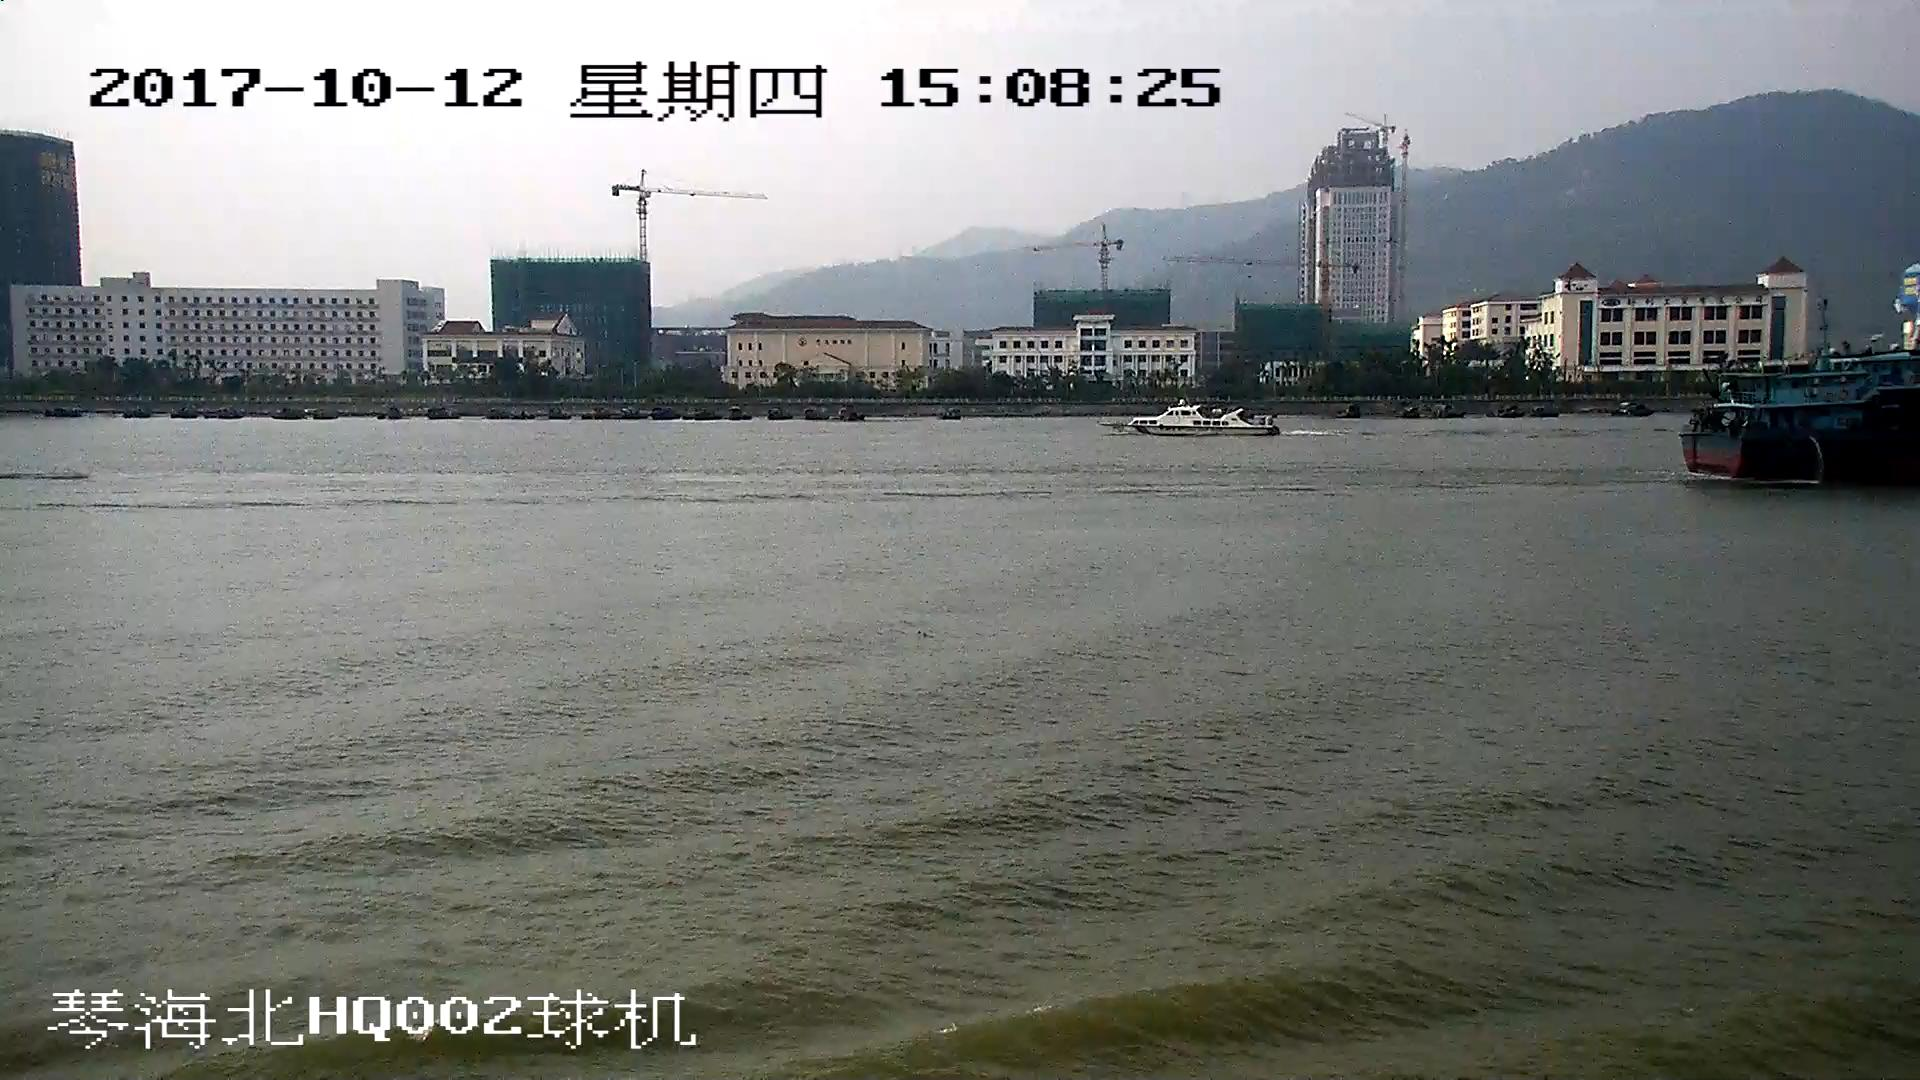passenger ship: (1129, 402, 1277, 443)
